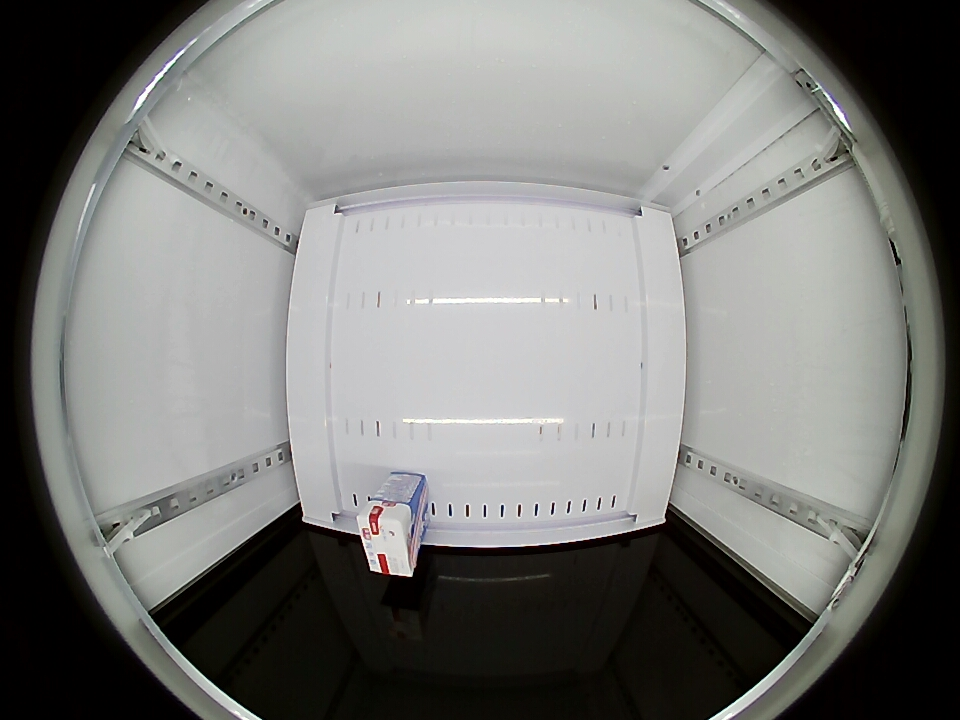niunai: (357, 498, 421, 577)
